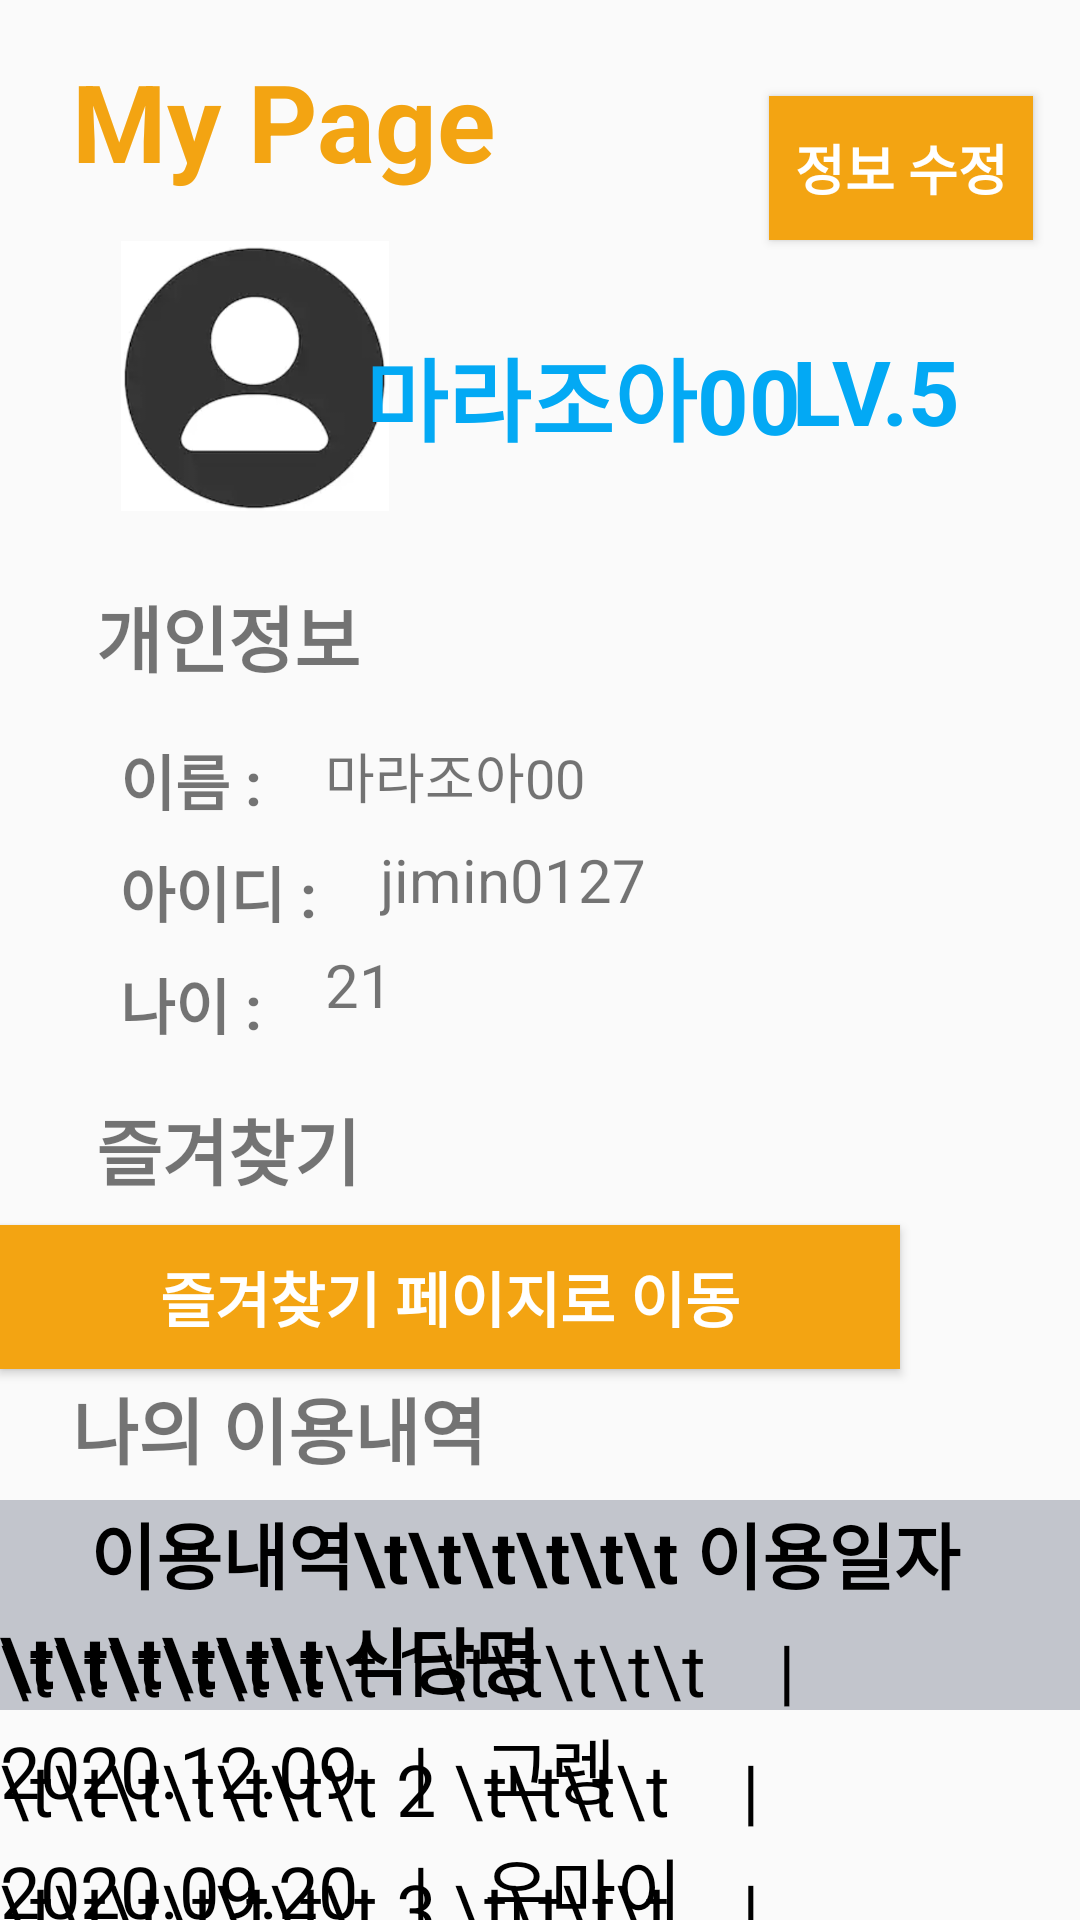

Icons on this 1080 x 1920 Android screen, each with its box as region(x1, y1, x2, y2):
profile: region(124, 248, 390, 509)
